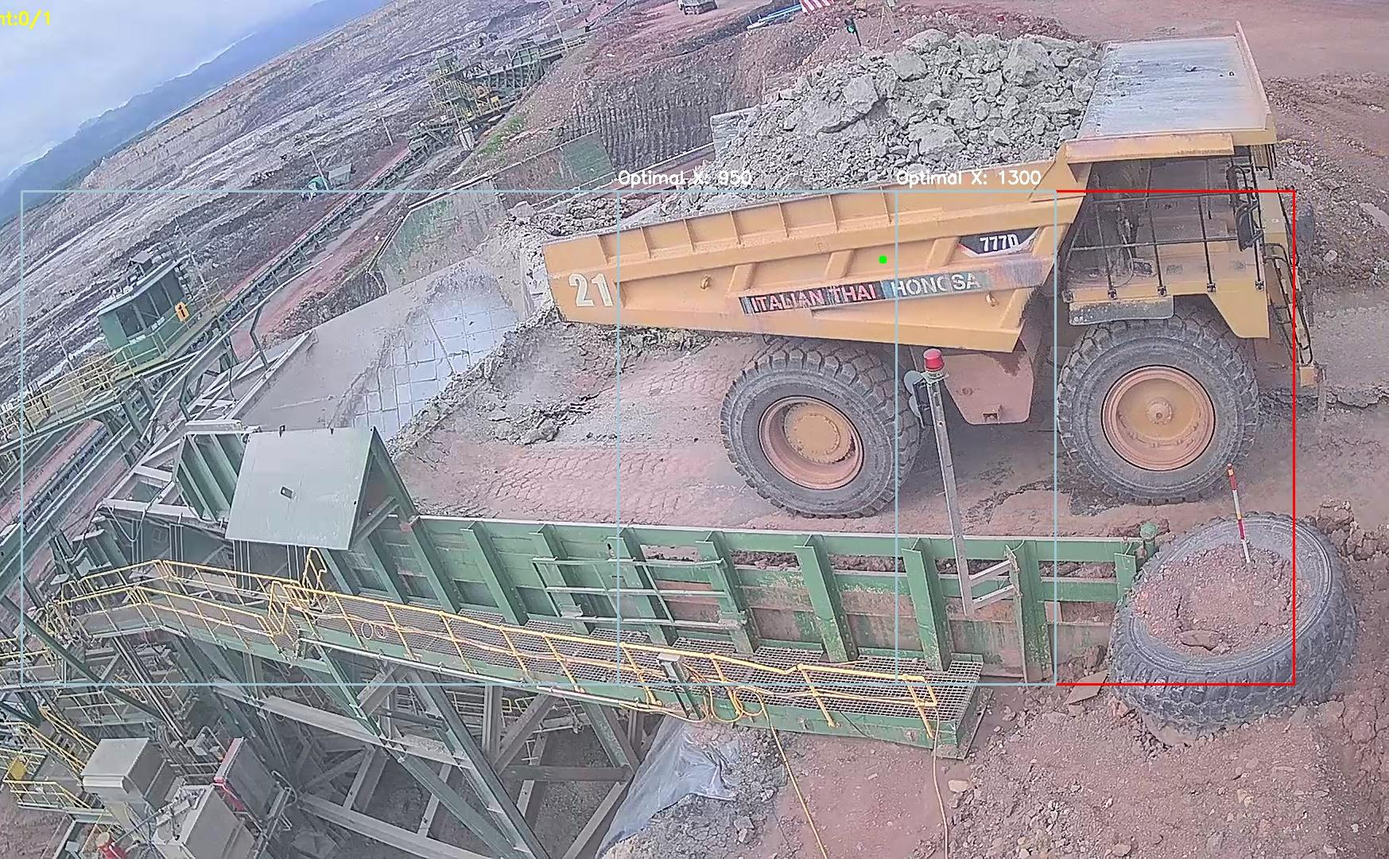company: (734, 272, 998, 311)
full_load: (755, 32, 1084, 194)
mining_truck: (541, 16, 1340, 531)
tail_number: (562, 261, 632, 316)
truck_size: (959, 222, 1036, 260)
